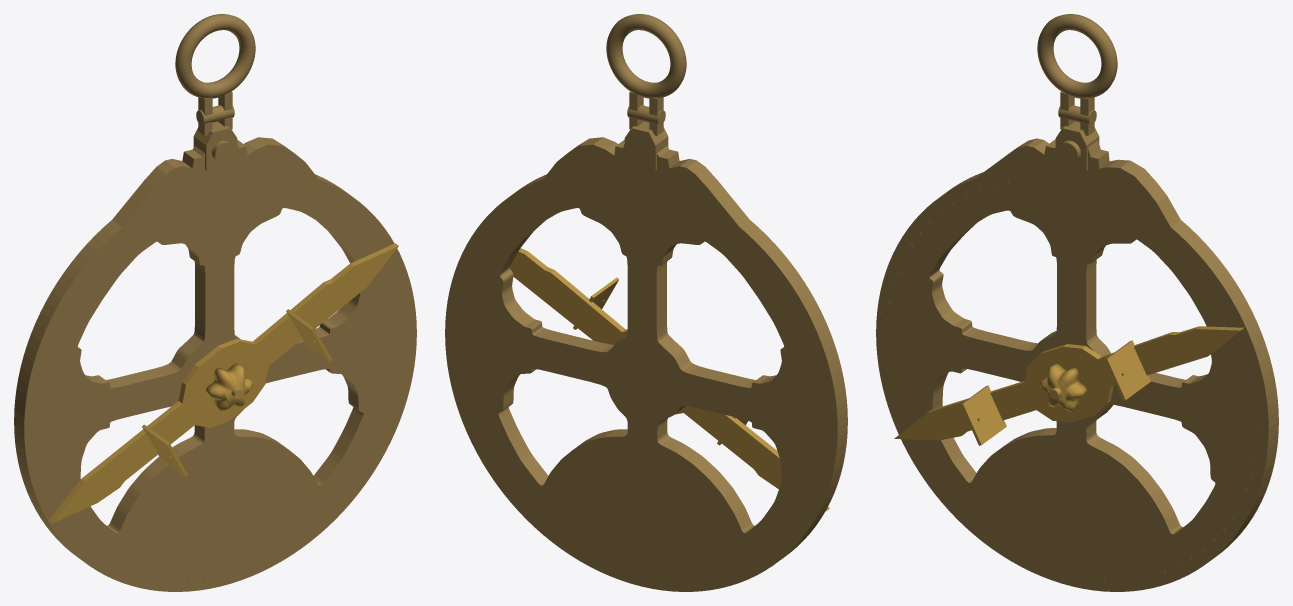
Rendered from NEW686_Astrolabe_LOD0_v001.glb.
The picture shows the model from 3 angles, left to right: view 1: azimuth 30°, elevation 25°; view 2: azimuth 150°, elevation 25°; view 3: azimuth 330°, elevation 25°; orthographic projection.
Visible parts, largest first — view 1: NAV0020_cast_frame_and_ballast, Rotating_alidade, Suspension_ring, Six_lobed_central_knob, Suspension_lug, Sight_vane_1, Sight_vane_-1; view 2: NAV0020_cast_frame_and_ballast, Rotating_alidade, Suspension_ring, Suspension_lug; view 3: NAV0020_cast_frame_and_ballast, Rotating_alidade, Suspension_ring, Sight_vane_-1, Sight_vane_1, Six_lobed_central_knob, Suspension_lug.
Boxes of the visible parts, box(x1,y1,x2,y2) form: NAV0020_cast_frame_and_ballast: box(14, 137, 416, 591); Rotating_alidade: box(48, 243, 398, 523); Suspension_ring: box(175, 14, 255, 98); Six_lobed_central_knob: box(205, 363, 253, 411); Suspension_lug: box(193, 121, 237, 170); Sight_vane_1: box(286, 309, 332, 361); Sight_vane_-1: box(142, 424, 187, 476); NAV0020_cast_frame_and_ballast: box(445, 137, 847, 591); Rotating_alidade: box(510, 248, 829, 511); Suspension_ring: box(606, 14, 686, 98); Suspension_lug: box(624, 121, 668, 170); NAV0020_cast_frame_and_ballast: box(876, 138, 1278, 591); Rotating_alidade: box(894, 326, 1243, 440); Suspension_ring: box(1037, 14, 1117, 98); Sight_vane_-1: box(960, 385, 1006, 445); Sight_vane_1: box(1105, 340, 1150, 400); Six_lobed_central_knob: box(1039, 363, 1087, 411); Suspension_lug: box(1055, 121, 1099, 170).
Bounding box in the file's own units: 0.178 × 0.2457 × 0.032.
